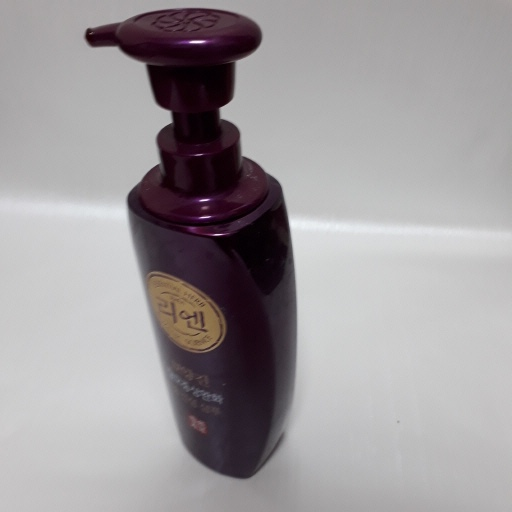Plastic_3: (85, 7, 304, 482)
